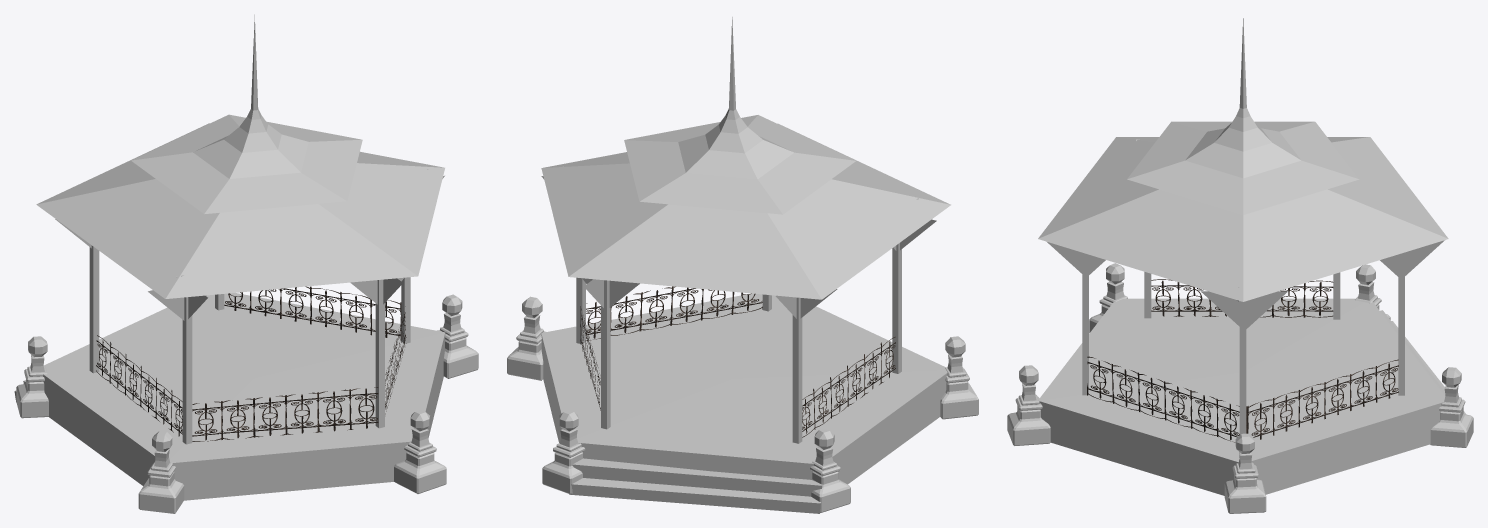
The model's file is Kiosko editable.fbx.
3 renders of one model, left to right at view 1: azimuth 30°, elevation 25°; view 2: azimuth 150°, elevation 25°; view 3: azimuth 270°, elevation 25°, orthographic. The views are drawn at different scales.
Parts seen in each view (by area): view 1: Icosphere.002, Icosphere.001, Icosphere.004, Plane.008, Cube.007, Cube.009, Plane.006, Cube.010, Cube.008, Plane.005, Cube.014, Cube.016 (+5 smaller); view 2: Icosphere.002, Icosphere.001, Icosphere.004, Cube.011, Cube.012, Plane.007, Cube.006, Cube.009, Cube.010, Cube.008, Plane.005, Cube.013 (+5 smaller); view 3: Icosphere.002, Icosphere.001, Icosphere.004, Plane.007, Plane.006, Cube.010, Cube.007, Cube.006, Plane.005, Plane.002, Cube.015, Cube.017 (+5 smaller).
Part boxes in pixels (x1,y1,x2,y2): Icosphere.002: (43, 293, 445, 500); Icosphere.001: (36, 123, 444, 298); Icosphere.004: (131, 109, 362, 214); Plane.008: (192, 387, 378, 441); Cube.007: (394, 409, 446, 493); Cube.009: (138, 431, 184, 513); Plane.006: (224, 286, 401, 340); Cube.010: (437, 294, 478, 378); Cube.008: (16, 336, 48, 418); Plane.005: (96, 335, 182, 436); Cube.014: (182, 297, 192, 444); Cube.016: (375, 279, 384, 428); Icosphere.002: (541, 293, 947, 484); Icosphere.001: (541, 123, 950, 299); Icosphere.004: (624, 108, 855, 214); Cube.011: (569, 478, 821, 513); Cube.012: (572, 458, 822, 496); Plane.007: (586, 286, 762, 340); Cube.006: (542, 410, 585, 494); Cube.009: (940, 336, 978, 419); Cube.010: (507, 296, 545, 380); Cube.008: (810, 428, 850, 512); Plane.005: (802, 336, 895, 437); Cube.013: (792, 297, 802, 443); Icosphere.002: (1038, 298, 1445, 495); Icosphere.001: (1038, 137, 1448, 301); Icosphere.004: (1127, 108, 1359, 214); Plane.007: (1087, 356, 1239, 442); Plane.006: (1246, 359, 1398, 439); Cube.010: (1224, 433, 1266, 513); Cube.007: (1007, 365, 1050, 445); Cube.006: (1430, 367, 1473, 447); Plane.005: (1151, 279, 1333, 317); Plane.002: (1201, 291, 1287, 328); Cube.015: (1239, 301, 1246, 434); Cube.017: (1398, 252, 1404, 395).
Size of the model in its own units: 828 by 807 by 856.
